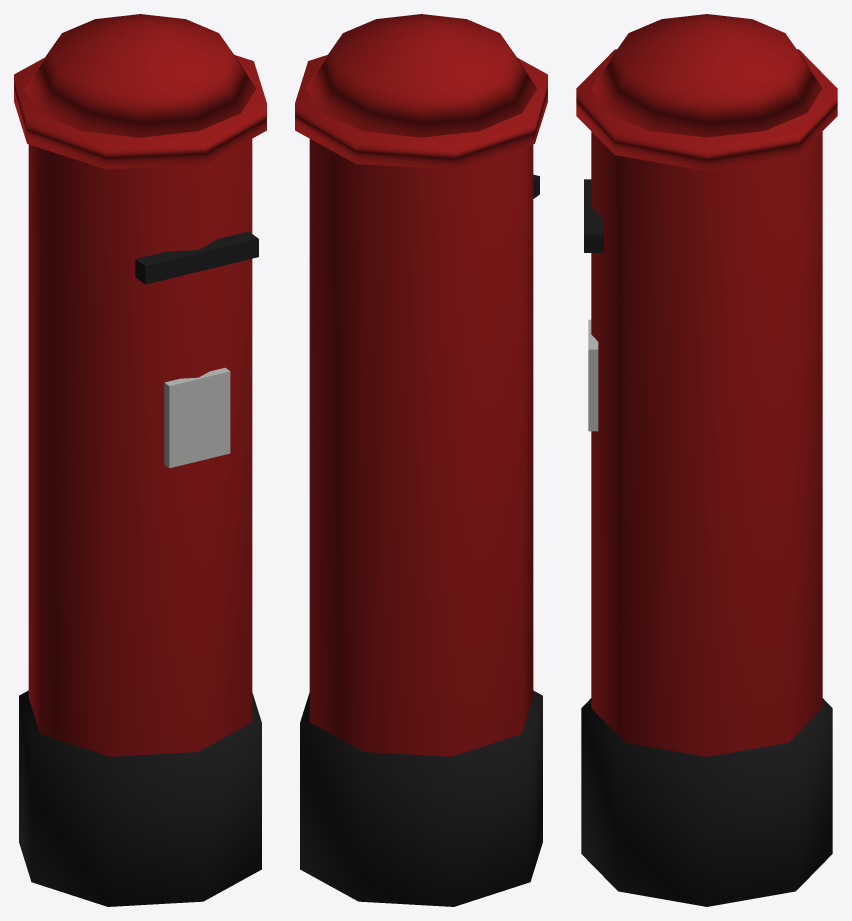
File: SM_PostBox_Wood.glb
The picture shows the model from 3 angles, left to right: view 1: azimuth 30°, elevation 25°; view 2: azimuth 150°, elevation 25°; view 3: azimuth 270°, elevation 25°; orthographic projection.
Parts seen in each view (by area): view 1: SM_PostBox_Wood; view 2: SM_PostBox_Wood; view 3: SM_PostBox_Wood.
Boxes of the visible parts, x1,y1,x2,y2 form: SM_PostBox_Wood: (14, 14, 266, 906); SM_PostBox_Wood: (295, 14, 547, 906); SM_PostBox_Wood: (576, 14, 837, 906).
Size of the model in its own units: 0.52 by 1.8 by 0.52.
